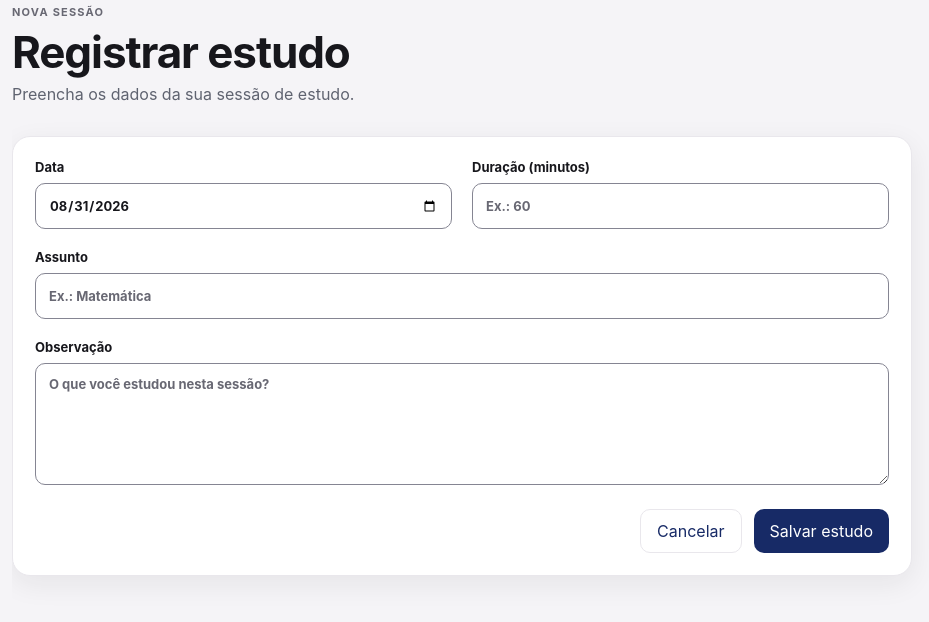
Test case: StudyForm › shows API errors without navigating
Type "10" into the number field labelled "Duração (minutos)". click: point(680, 206)
box: x1=472 y1=183 x2=889 y2=229
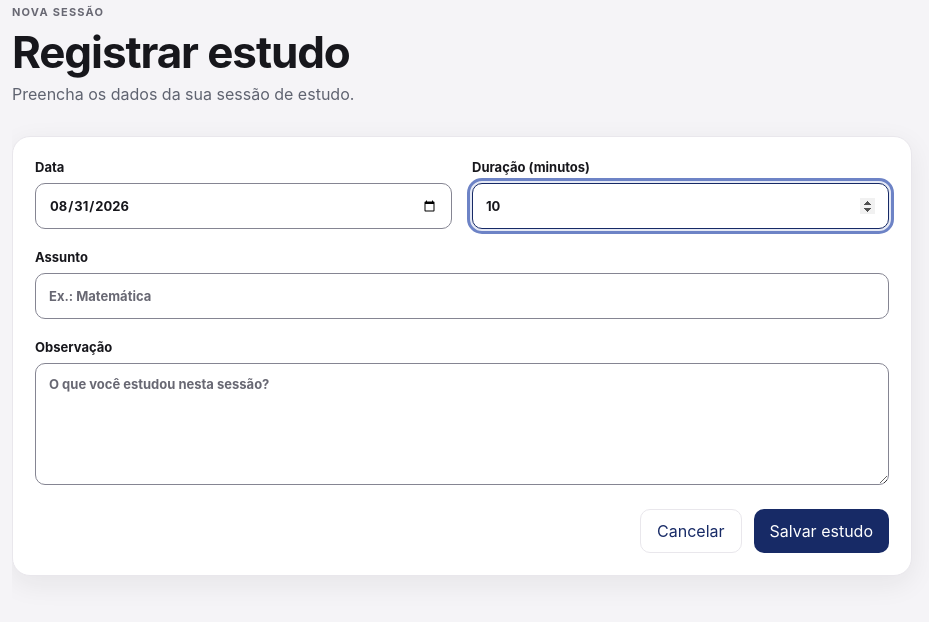
Type "Math" into the field labelled "Assunto". click: point(462, 296)
box: x1=35 y1=273 x2=889 y2=319
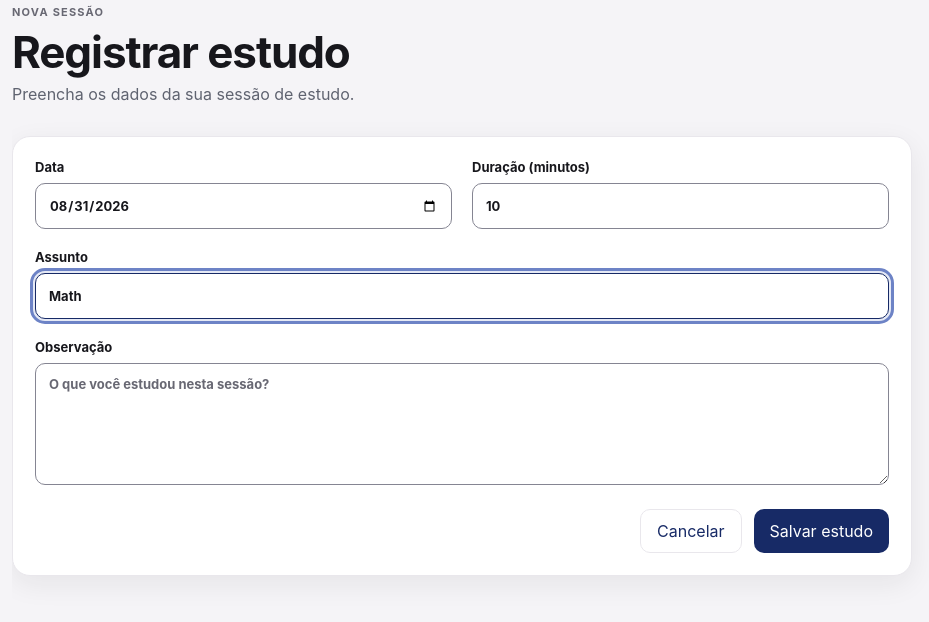
Click the button "Salvar estudo". click: point(821, 531)
box: x1=754 y1=509 x2=889 y2=553
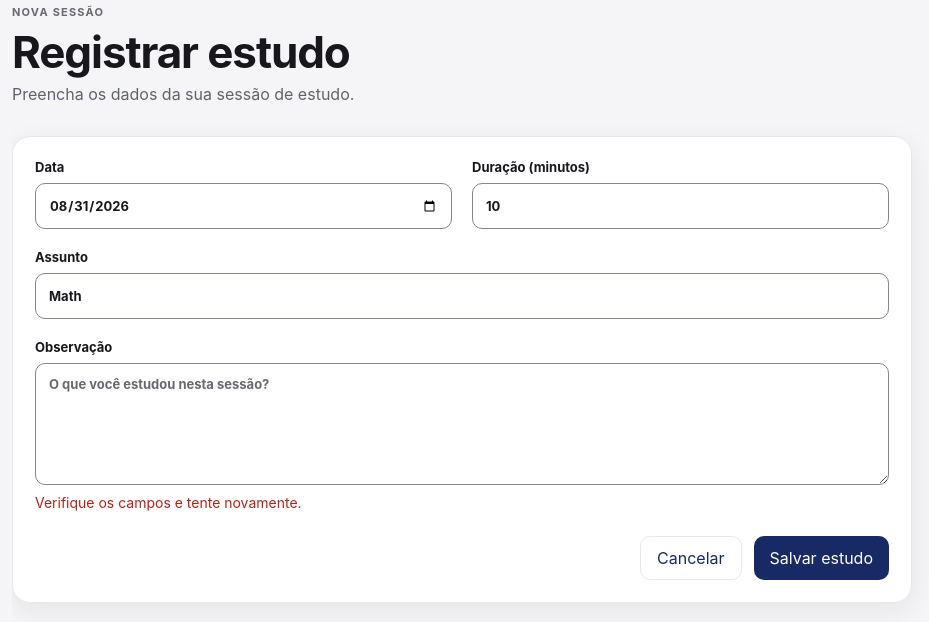
Expected: the text "Verifique os campos e tente novamente." is shown, x1=35 y1=494 x2=302 y2=511
